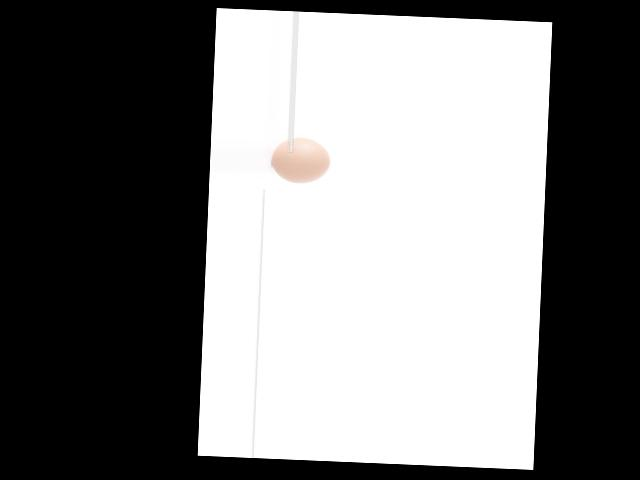egg: (271, 136, 331, 184)
